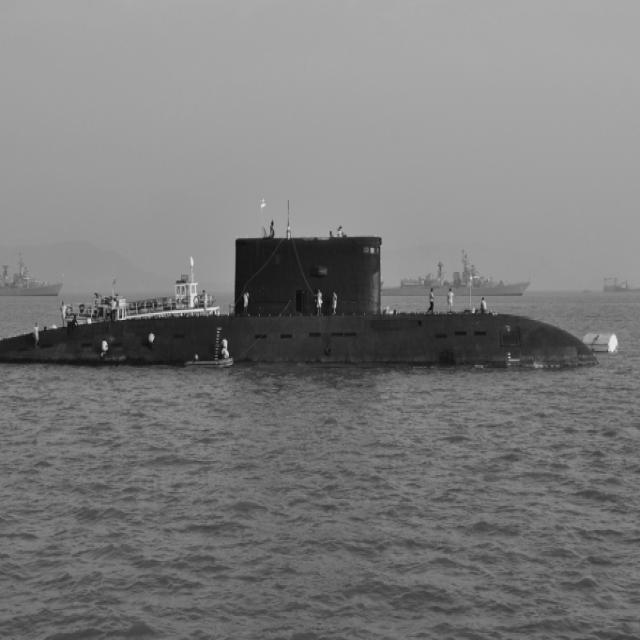submarine: (1, 236, 606, 366)
